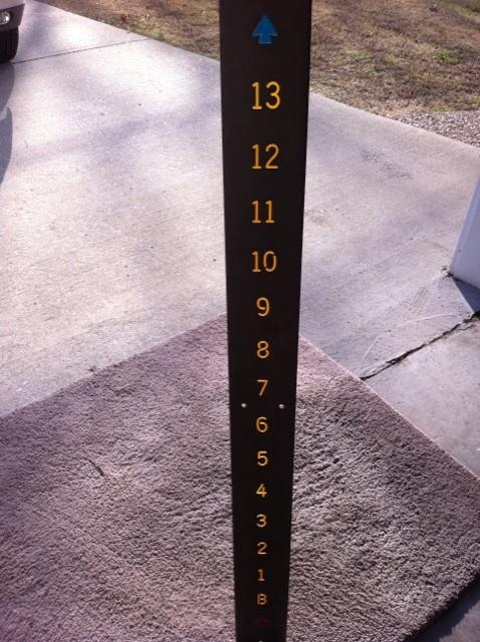1: (230, 567, 294, 583)
10: (222, 245, 304, 279)
11: (219, 193, 307, 227)
12: (219, 139, 309, 173)
13: (218, 76, 312, 113)
2: (230, 539, 292, 556)
3: (230, 511, 295, 530)
4: (228, 481, 296, 498)
5: (227, 447, 298, 468)
6: (226, 415, 298, 435)
7: (225, 376, 299, 398)
8: (224, 333, 301, 361)
9: (224, 289, 302, 322)
B: (229, 590, 291, 608)
up: (214, 14, 314, 46)
